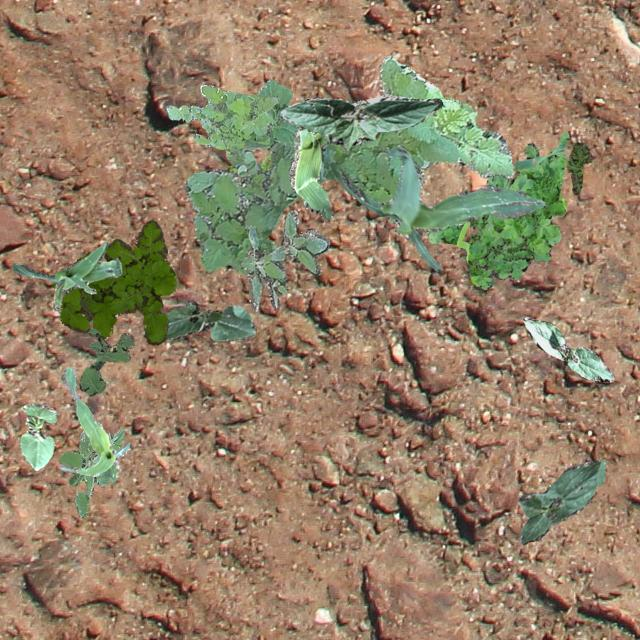crop: (330, 146, 544, 270), (276, 94, 440, 150), (58, 366, 130, 481), (10, 240, 120, 310), (516, 458, 604, 544), (522, 316, 614, 382), (240, 78, 300, 148), (288, 125, 332, 218), (165, 300, 255, 340), (19, 402, 56, 470)
weed: (183, 54, 512, 276), (427, 130, 568, 288), (58, 220, 176, 344), (238, 208, 328, 310), (165, 84, 278, 148), (58, 428, 124, 516), (78, 326, 132, 394), (566, 142, 590, 194), (225, 148, 272, 172)
